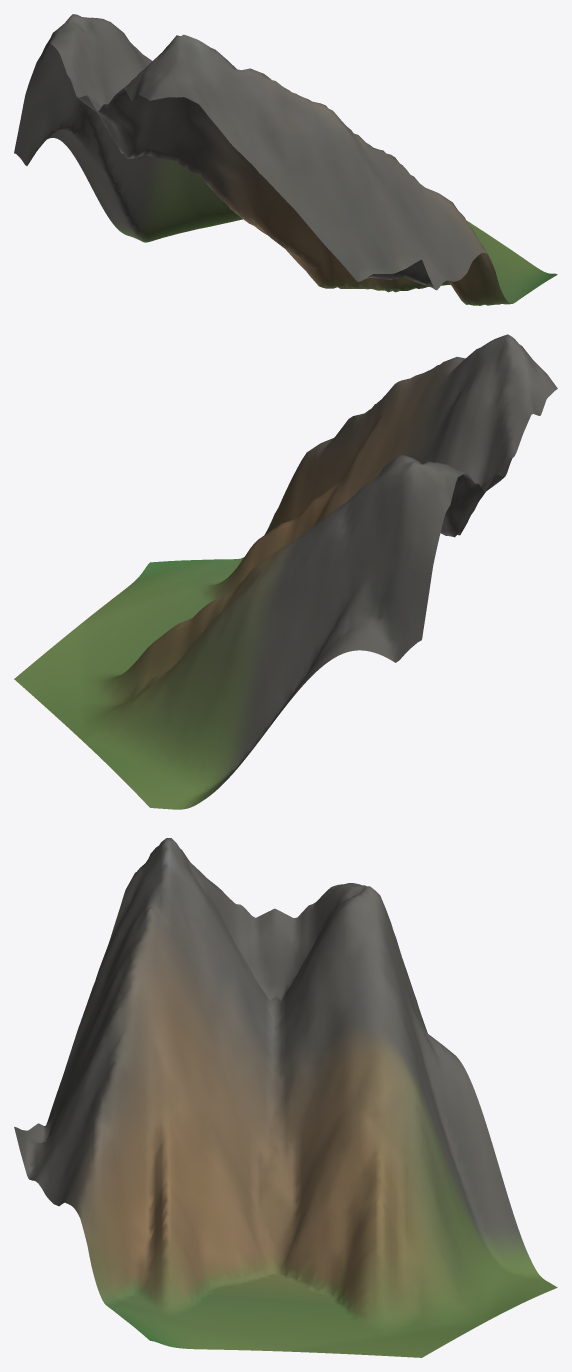
Rendered from Serra_3_-2.glb.
3 renders of one model, top to bottom at view 1: azimuth 30°, elevation 25°; view 2: azimuth 150°, elevation 25°; view 3: azimuth 270°, elevation 25°, orthographic.
Parts seen in each view (by area): view 1: terrain; view 2: terrain; view 3: terrain.
Part boxes in pixels (box(x1,y1,x2,y2)): terrain: box(14, 14, 557, 305); terrain: box(14, 334, 557, 809); terrain: box(14, 838, 557, 1357).
Bounding box in the file's own units: 4330 × 3769 × 5000.
